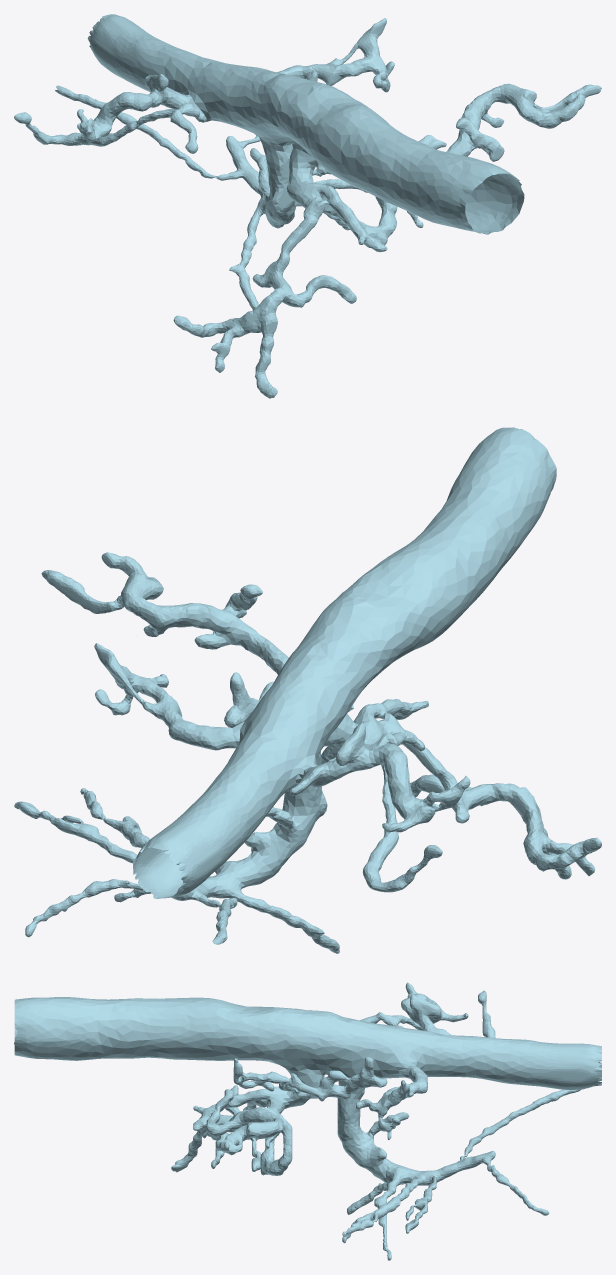
Rendered from artery.obj.
The picture shows the model from 3 angles, top to bottom: view 1: azimuth 30°, elevation 25°; view 2: azimuth 150°, elevation 25°; view 3: azimuth 270°, elevation 25°; orthographic projection. The views are drawn at different scales.
Visible parts, largest first — view 1: grp1; view 2: grp1; view 3: grp1.
Boxes of the visible parts, box(x1,y1,x2,y2) form: grp1: box(14, 14, 601, 398); grp1: box(14, 427, 601, 953); grp1: box(14, 982, 601, 1260).
Size of the model in its own units: 161 by 91.21 by 208.
